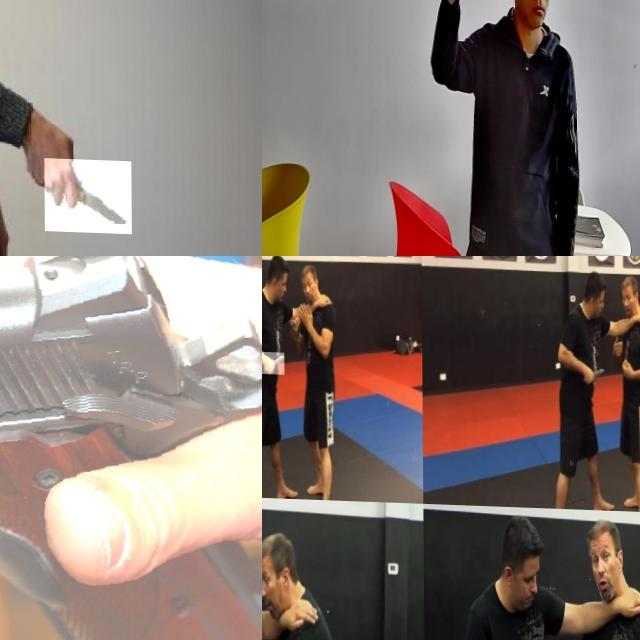-: (44, 155, 131, 231), (262, 350, 284, 373), (581, 361, 604, 382)
gun-knife-thesis - v11 Yolov5 augmented: (0, 256, 262, 640), (455, 0, 500, 54)
